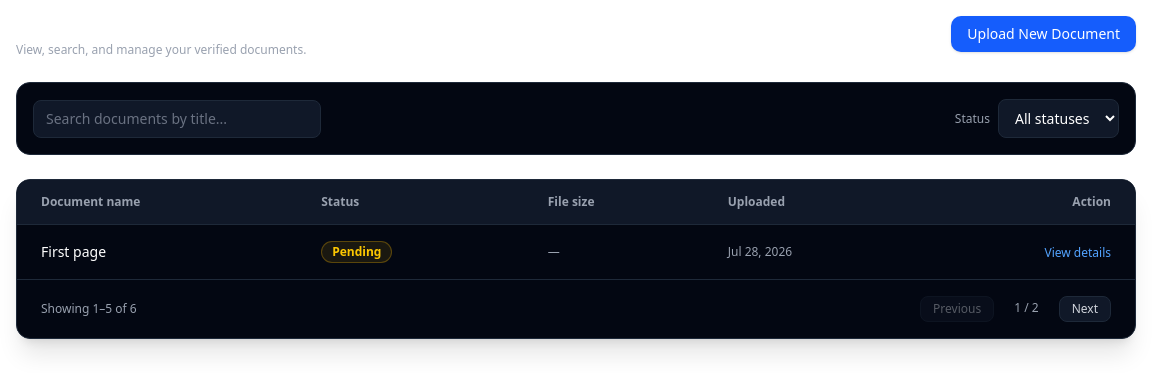
Test: DocumentsListPage › requests the next page when the next control is used
Check: the link "First page" is shown, box [41,242,106,261]
Click the button "Next": (1085, 309) [1059,296,1111,322]
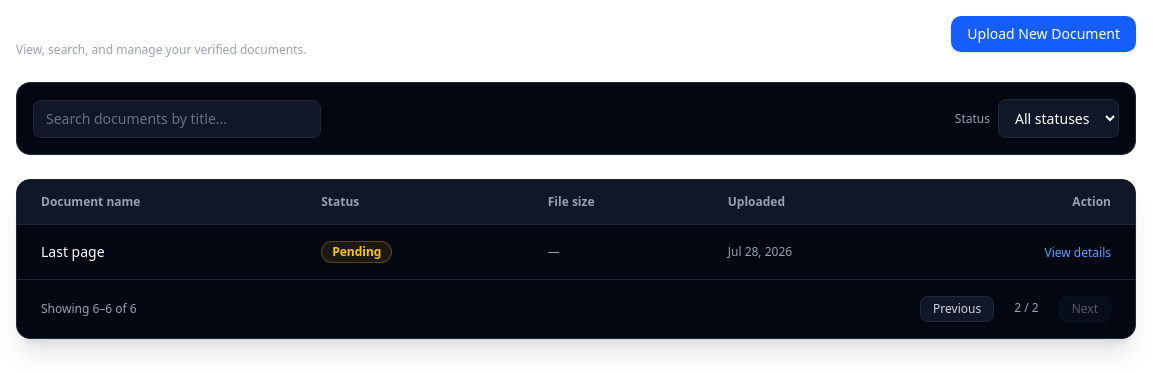
Check: the link "Last page" is shown, box [41,242,105,261]
